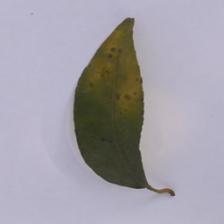black spot: (64, 100, 175, 194)
